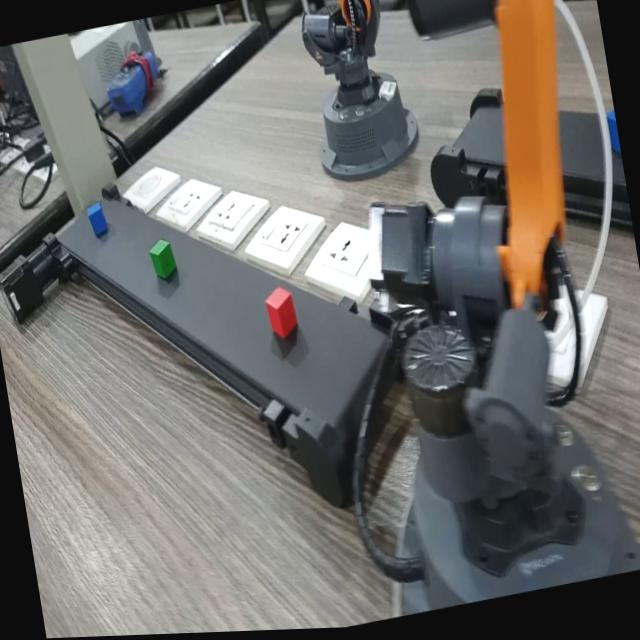cube: (258, 273, 308, 346), (142, 232, 184, 287), (83, 197, 112, 243), (605, 110, 622, 164)
